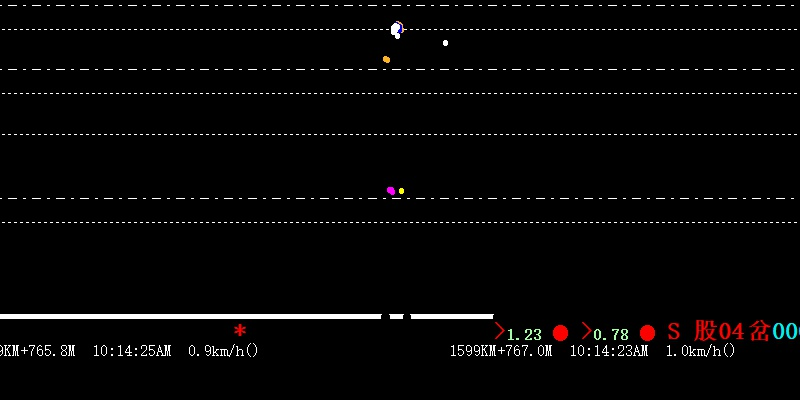circle: (638, 322, 656, 342), (550, 323, 567, 342)
face_2: (391, 17, 404, 38)
star: (233, 323, 246, 338)
